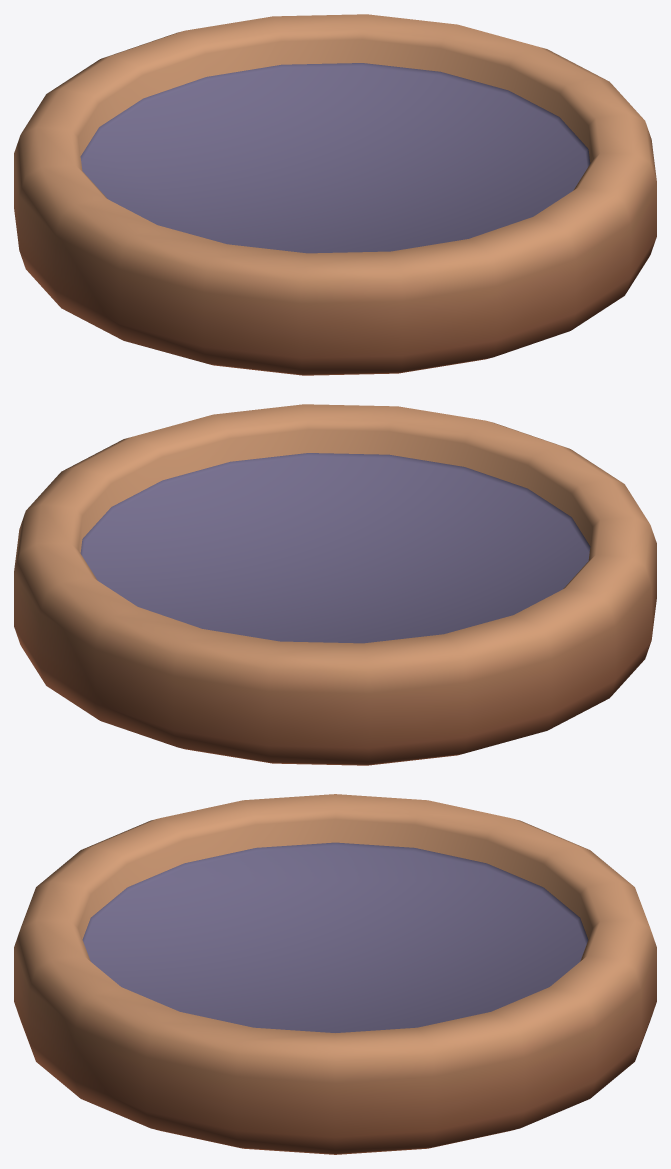
The model's file is Stage.fbx.
The picture shows the model from 3 angles, top to bottom: view 1: azimuth 30°, elevation 25°; view 2: azimuth 150°, elevation 25°; view 3: azimuth 270°, elevation 25°; orthographic projection.
Visible parts, largest first — view 1: phao_red; view 2: phao_red; view 3: phao_red.
Part boxes in pixels (<box>): phao_red: <box>14,14,656,375</box>; phao_red: <box>14,404,656,765</box>; phao_red: <box>14,794,656,1154</box>.
Size of the model in its own units: 98.96 by 18.36 by 98.96.
